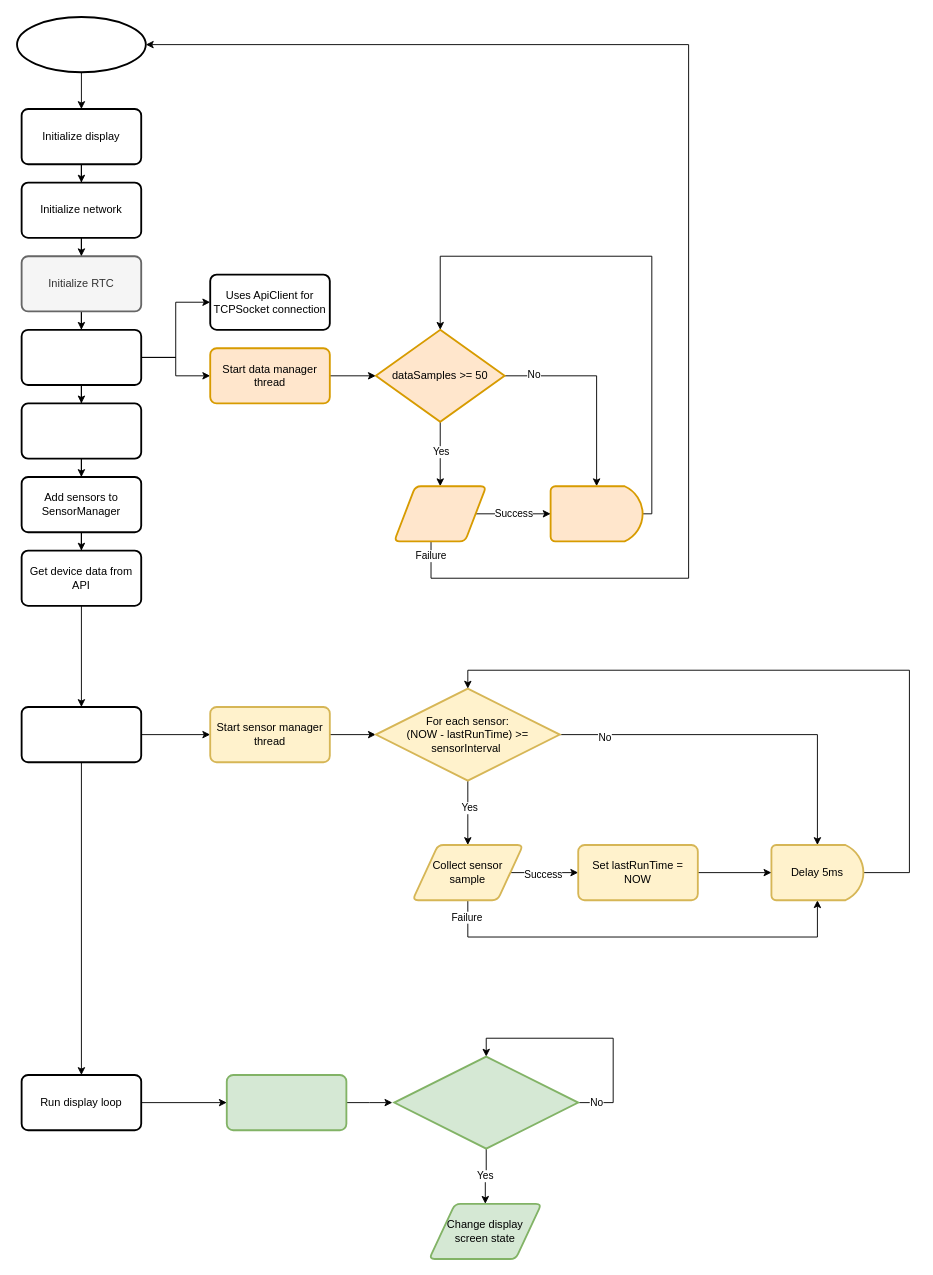
Image size: 933x1275. Some labels were removed from this diagram. Each missing label, with the centre of its shape:
Create DataManager & SensorManager: [81,356]
Create sensors (dht, light, sound): [81,430]
Delay 500ms: [596,513]
Main.cpp: [81,44]
Push data to API: [440,513]
Run sensor manager: [81,734]
Start display thread: [286,1102]
User press button (ISR): [486,1102]
